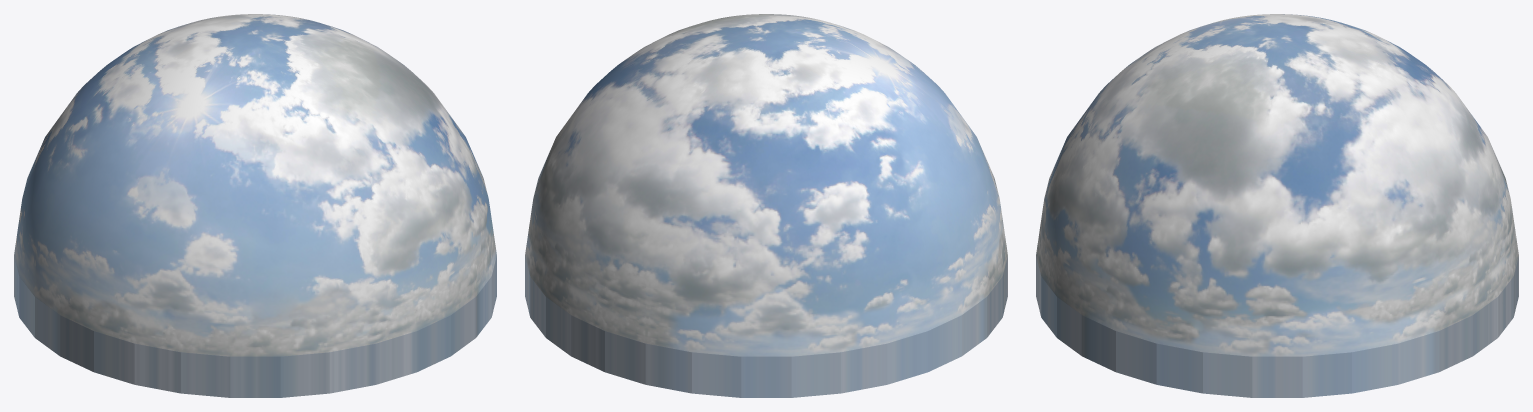
The model's file is Skybox.FBX.
3 views of the same model, side by side, from view 1: azimuth 30°, elevation 25°; view 2: azimuth 150°, elevation 25°; view 3: azimuth 270°, elevation 25° (orthographic).
Parts seen in each view (by area): view 1: HalfSphere; view 2: HalfSphere; view 3: HalfSphere.
Boxes of the visible parts, x1,y1,x2,y2 form: HalfSphere: [14, 14, 496, 397]; HalfSphere: [525, 14, 1007, 397]; HalfSphere: [1036, 14, 1518, 397].
Size of the model in its own units: 21879 by 22000 by 14440.
